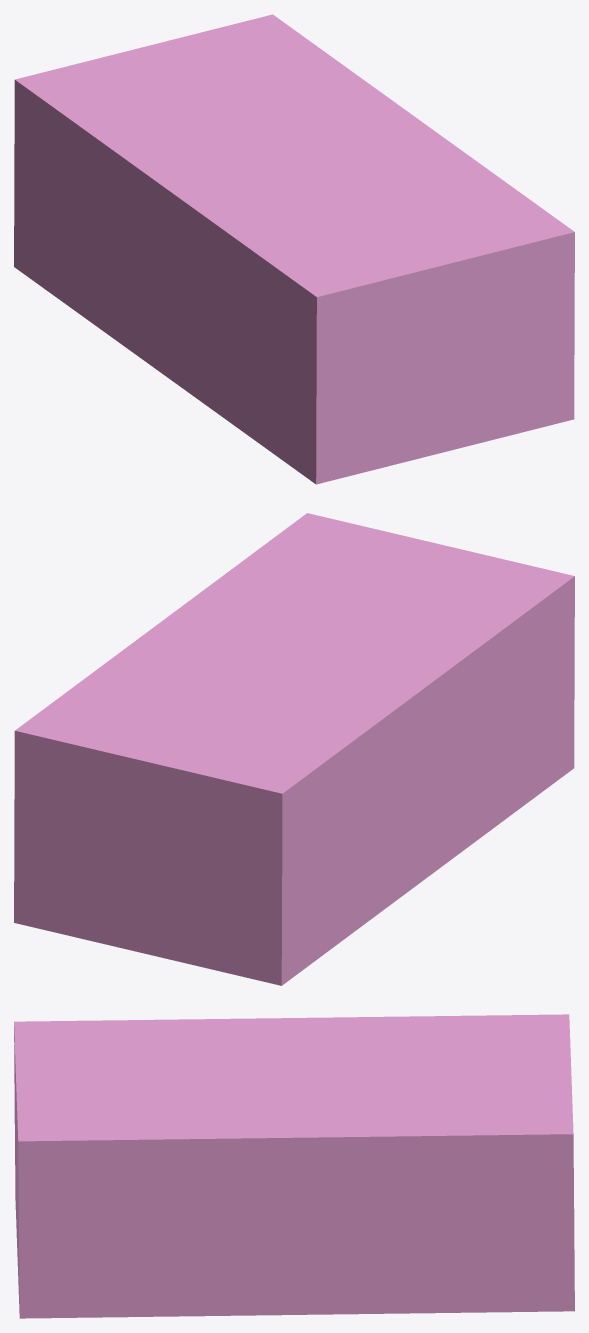
The model's file is supply-crate-large.glb.
3 renders of one model, top to bottom at view 1: azimuth 30°, elevation 25°; view 2: azimuth 150°, elevation 25°; view 3: azimuth 270°, elevation 25°, orthographic. The views are drawn at different scales.
Visible parts, largest first — view 1: root_J; view 2: root_J; view 3: root_J.
Boxes of the visible parts, <box> form: root_J: <box>14,14,574,484</box>; root_J: <box>14,513,574,985</box>; root_J: <box>14,1014,574,1318</box>.
Bounding box in the file's own units: 0.8843 × 0.605 × 1.7.
